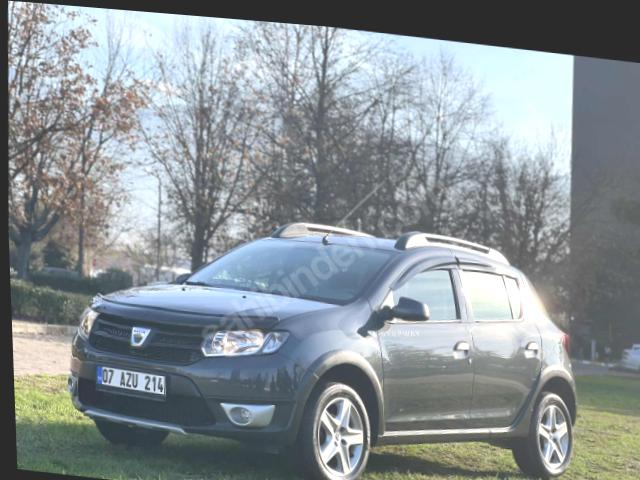plaka: (96, 366, 165, 396)
